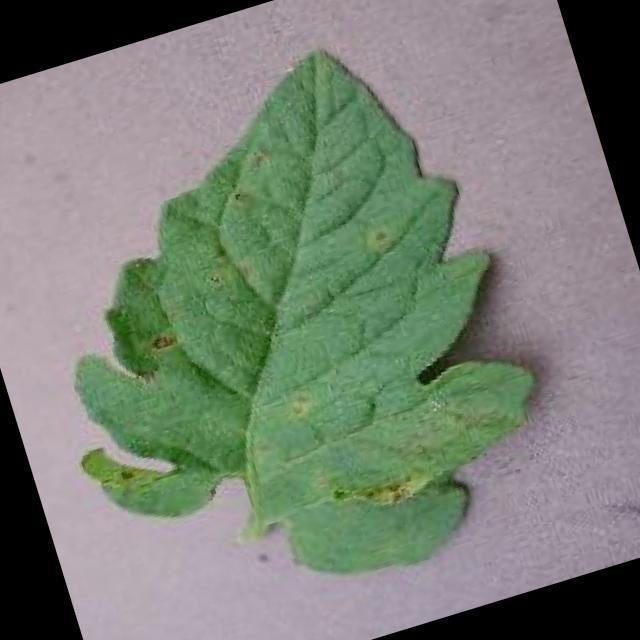Tomato Septoria spot leaf: (0, 15, 576, 640)
